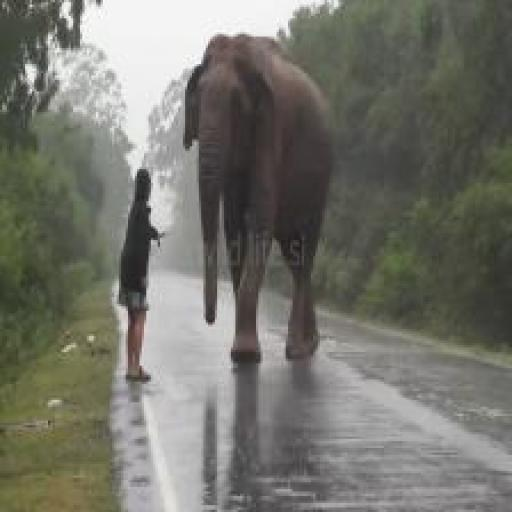Elephant: (165, 30, 360, 379)
